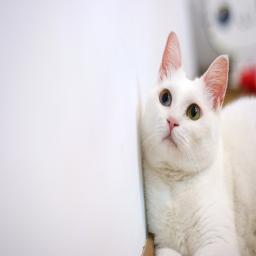catnose: (166, 114, 180, 132)
